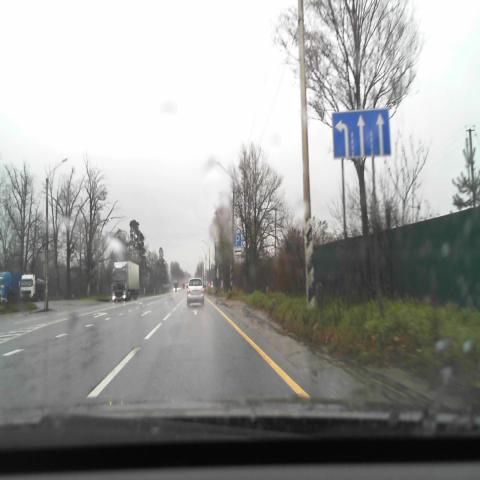5_15_1: (332, 109, 391, 158)
